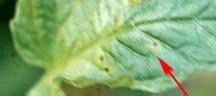Tomato leaf bacterial spot: (5, 0, 216, 96)
